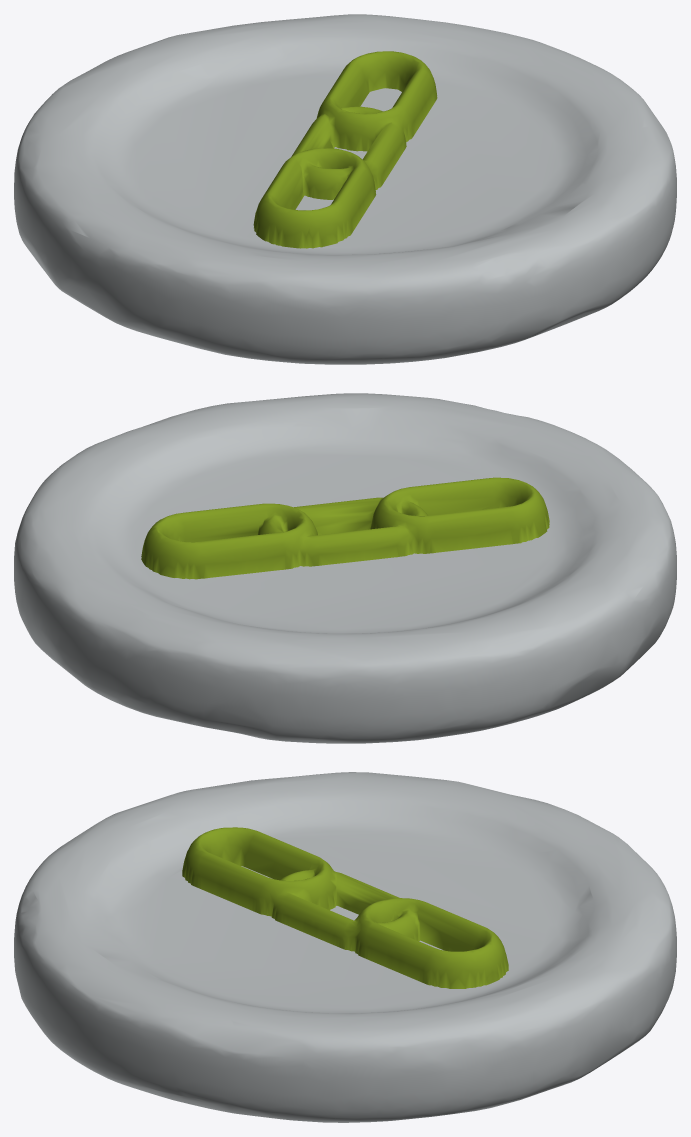
The model's file is token-warlock-blue.glb.
3 views of the same model, one above another, from view 1: azimuth 30°, elevation 25°; view 2: azimuth 150°, elevation 25°; view 3: azimuth 270°, elevation 25° (orthographic).
Parts seen in each view (by area): view 1: token_warlock_blue; view 2: token_warlock_blue; view 3: token_warlock_blue.
Boxes of the visible parts, bbox=[...] form: token_warlock_blue: bbox=[14, 14, 676, 364]; token_warlock_blue: bbox=[14, 393, 676, 743]; token_warlock_blue: bbox=[14, 772, 676, 1122].
Size of the model in its own units: 0.4139 by 0.0715 by 0.414.
